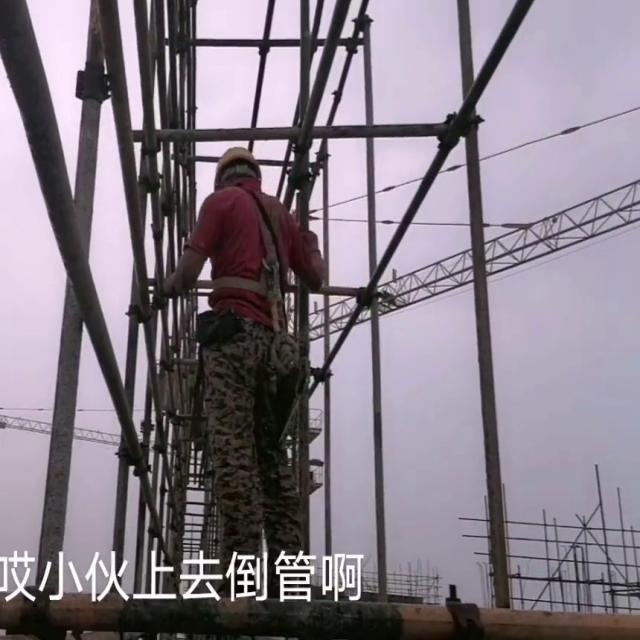Arnes_seguridad: (204, 183, 294, 323)
